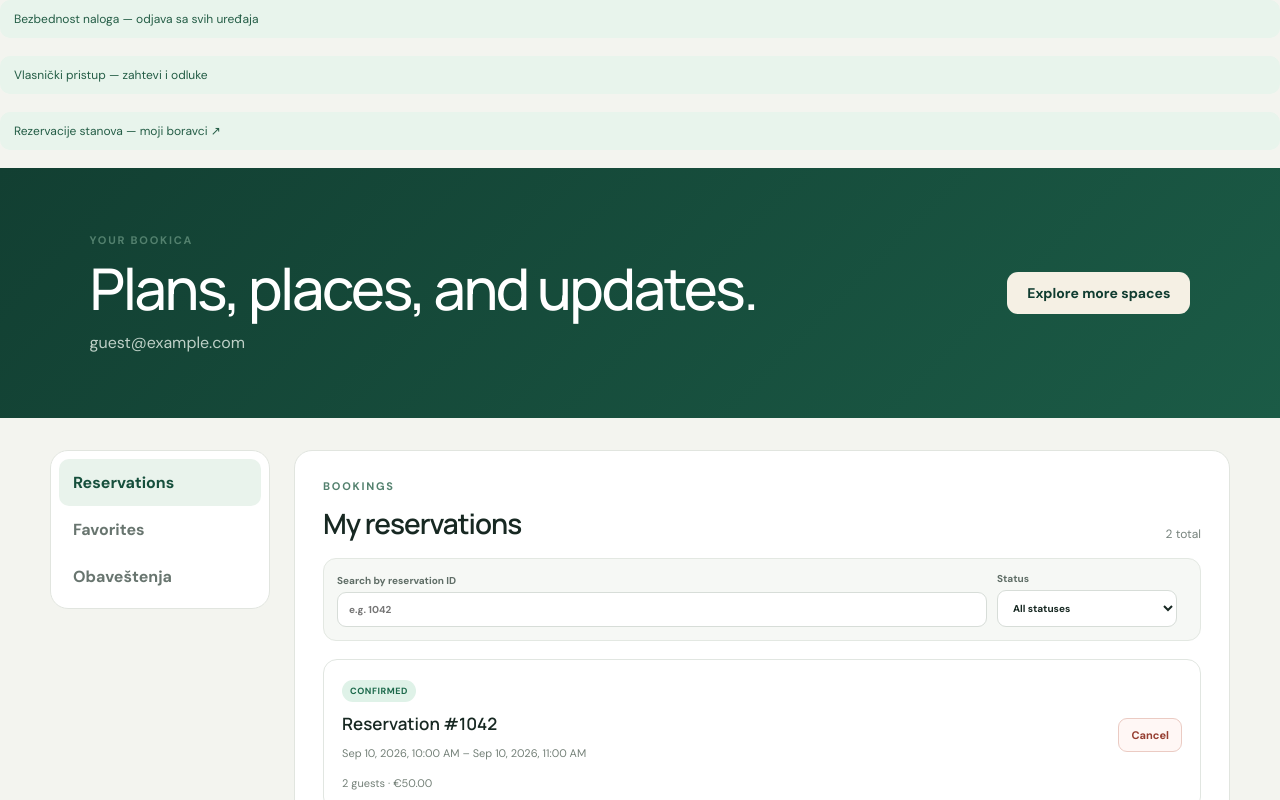
AccountDashboard reservation filters › filters reservations by status
Check: the button "Reservation #1042" is shown, box [342, 712, 497, 735]
Select "Cancelled" in the dropdown labelled "Status". click: {"x": 1087, "y": 608}
box: [997, 590, 1177, 627]
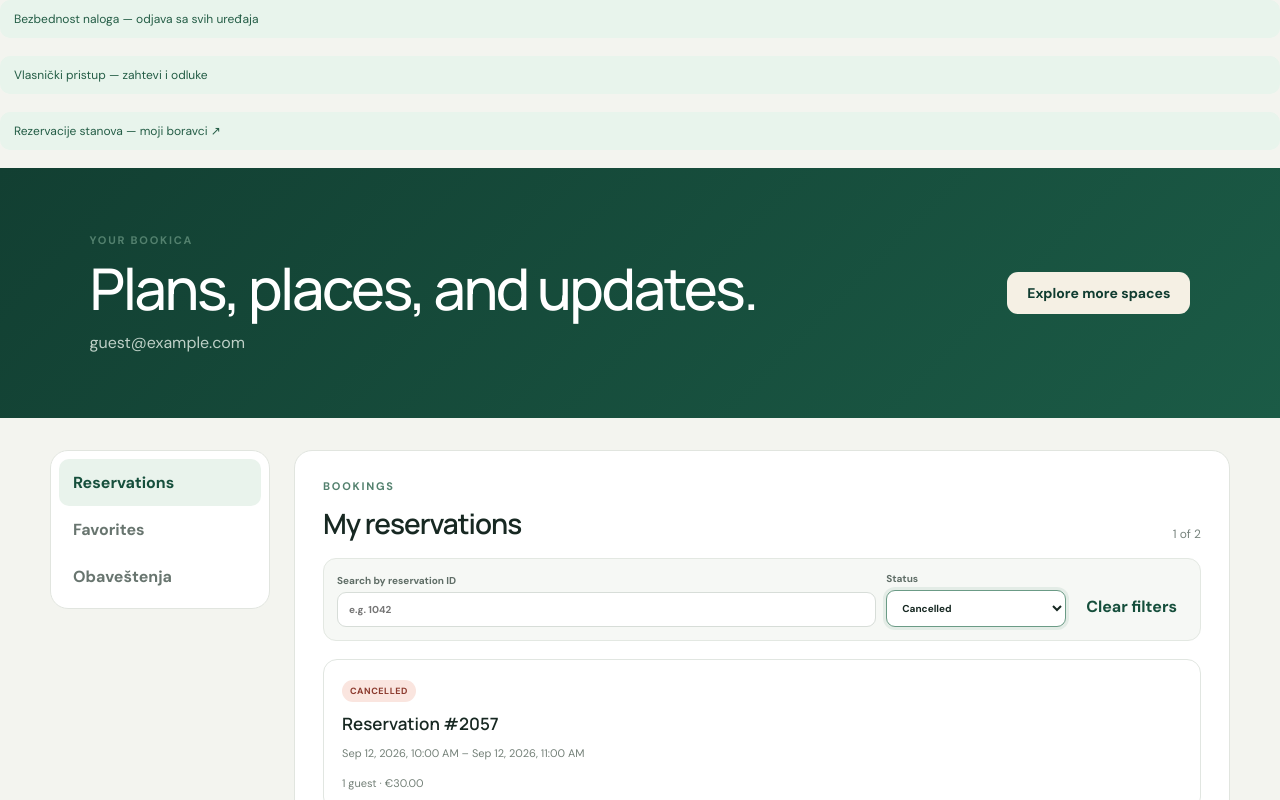
Check: the button "Reservation #2057" is shown, box [342, 712, 499, 735]
Check: the button "Reservation #1042" is gone
Check: the text "1 of 2" is shown, box [1173, 526, 1201, 542]
